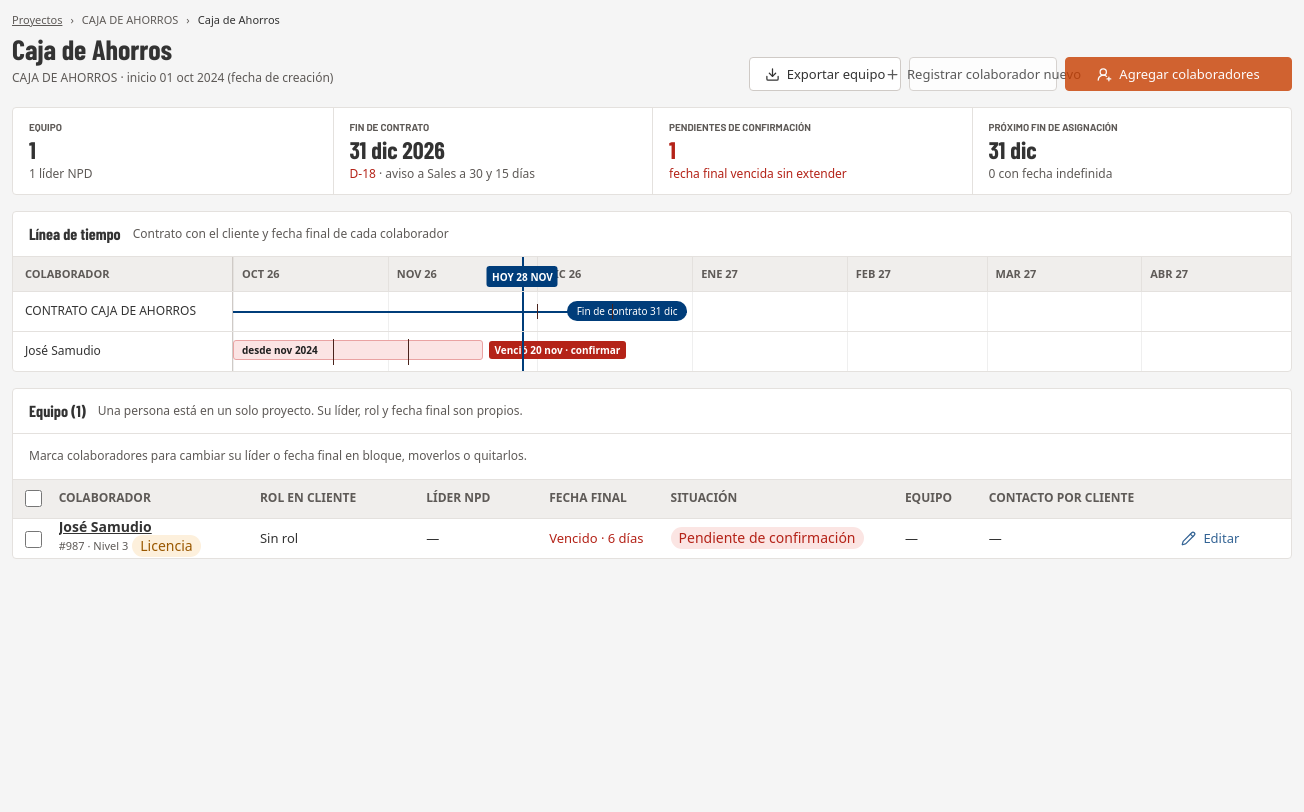
ProjectDetailPage › shows an error when frontend team export fails
Click the button "Exportar equipo" at (825, 74), box top-left (749, 57), bottom-right (901, 91)
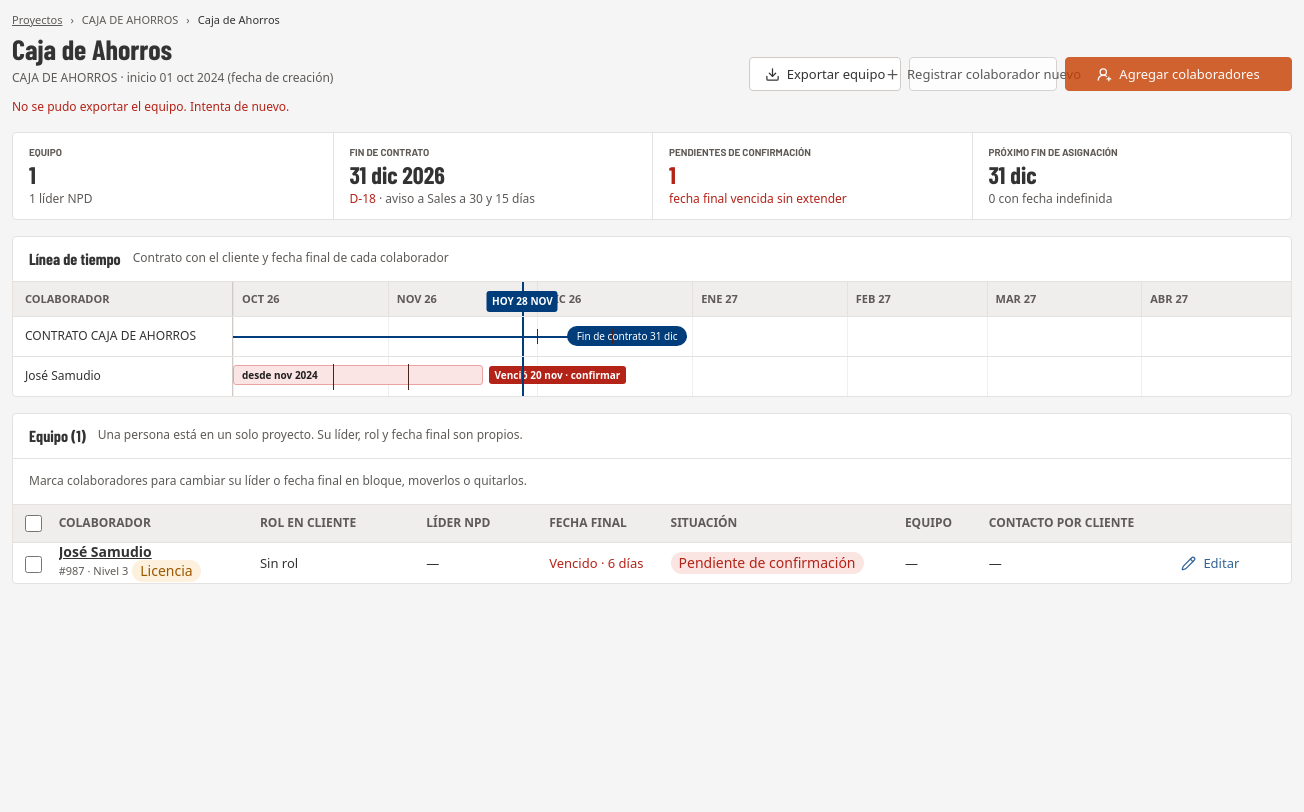
Now the message reads "No se pudo exportar el equipo. Intenta de nuevo.", box top-left (12, 98), bottom-right (289, 115)
